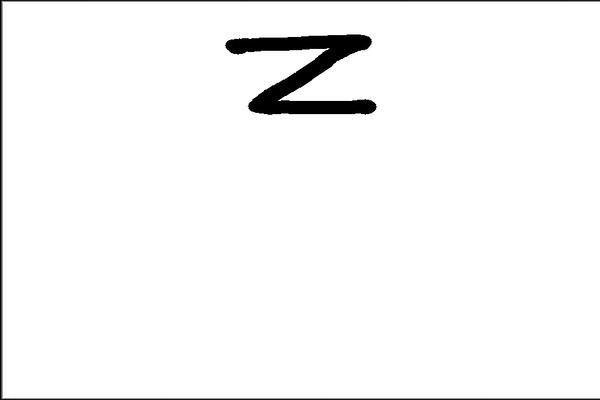Z: (216, 27, 390, 122)
